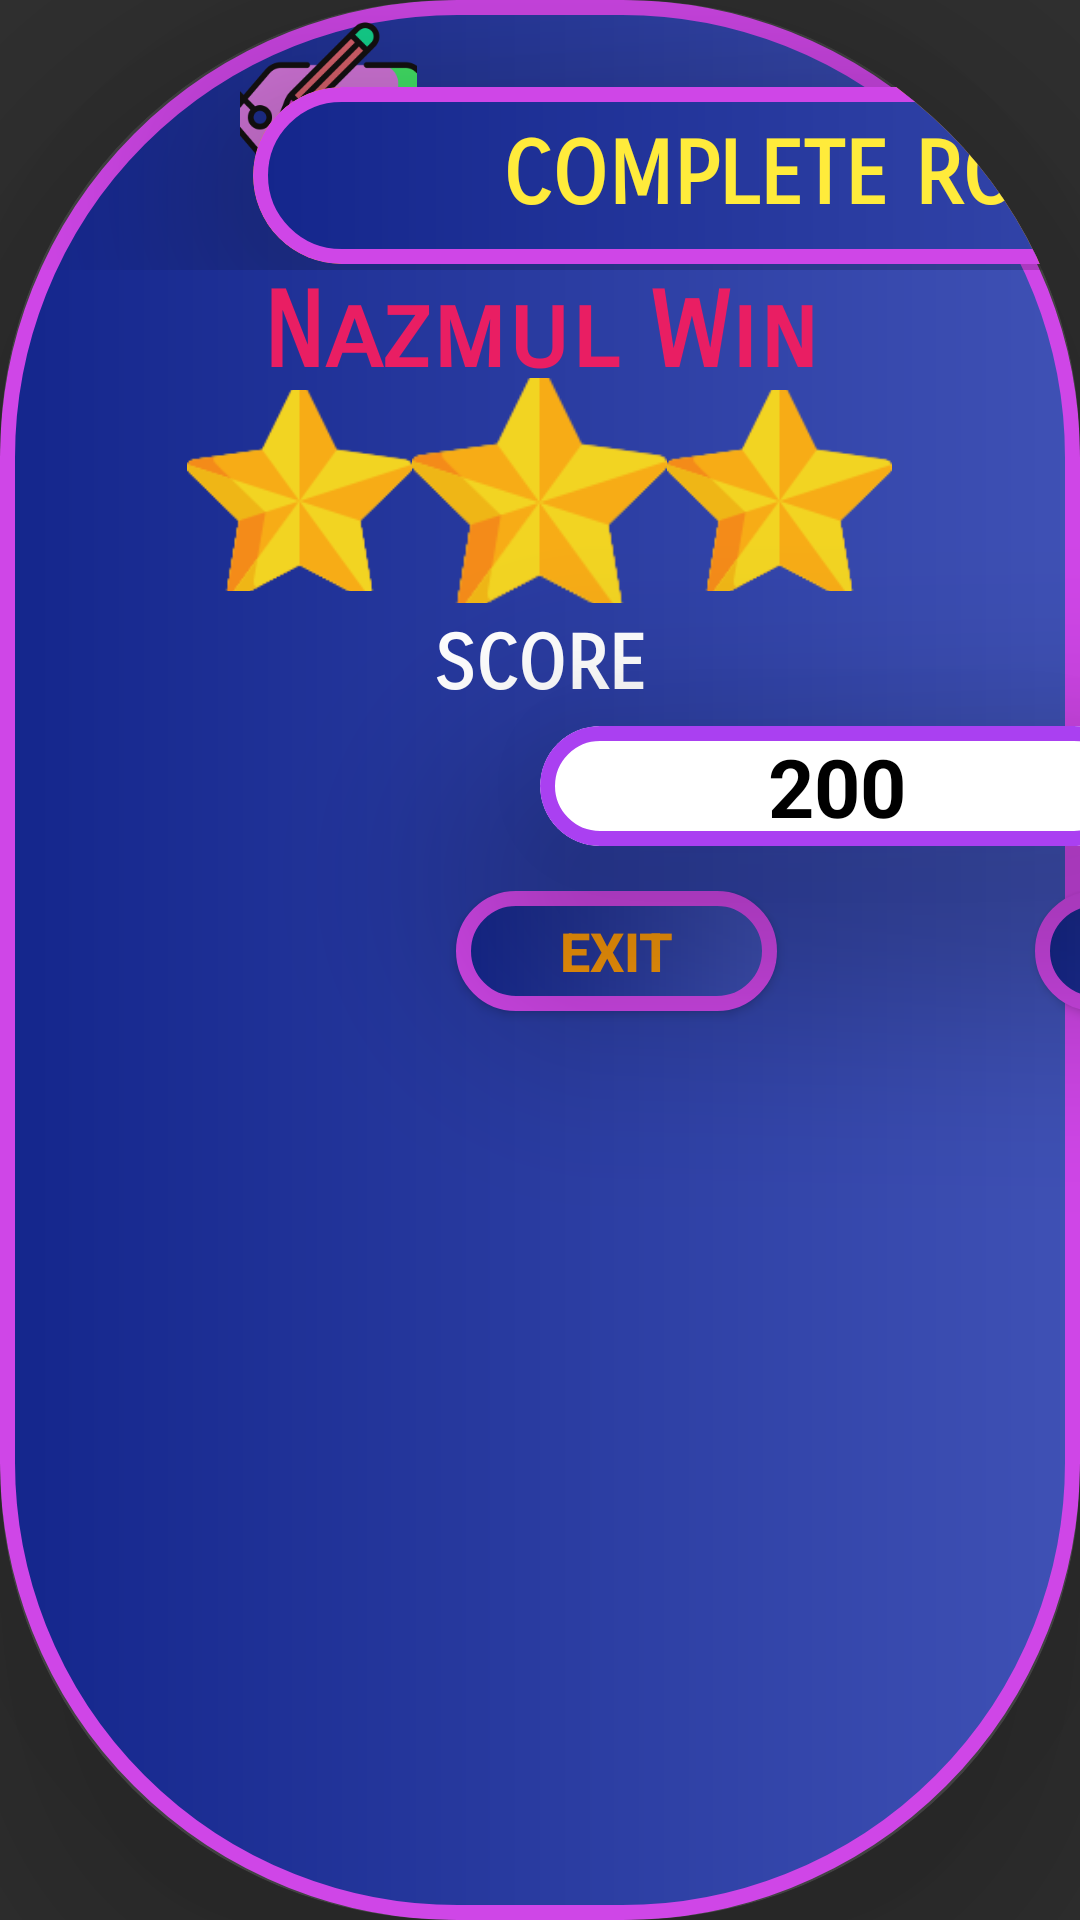

Icon bounding boxes for this 1080px x 1920px phone screenshot, format [x1,y1,x2,y2]:
label: [240,0,417,195]
